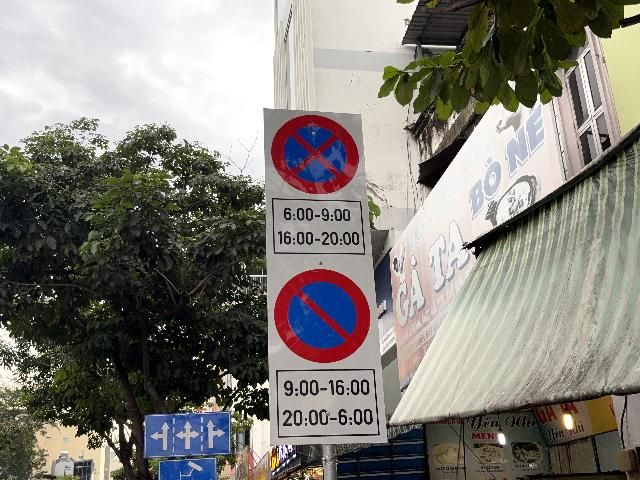cam-do-xe: (274, 268, 371, 363)
cam-dung-va-do-xe: (271, 113, 359, 194)
